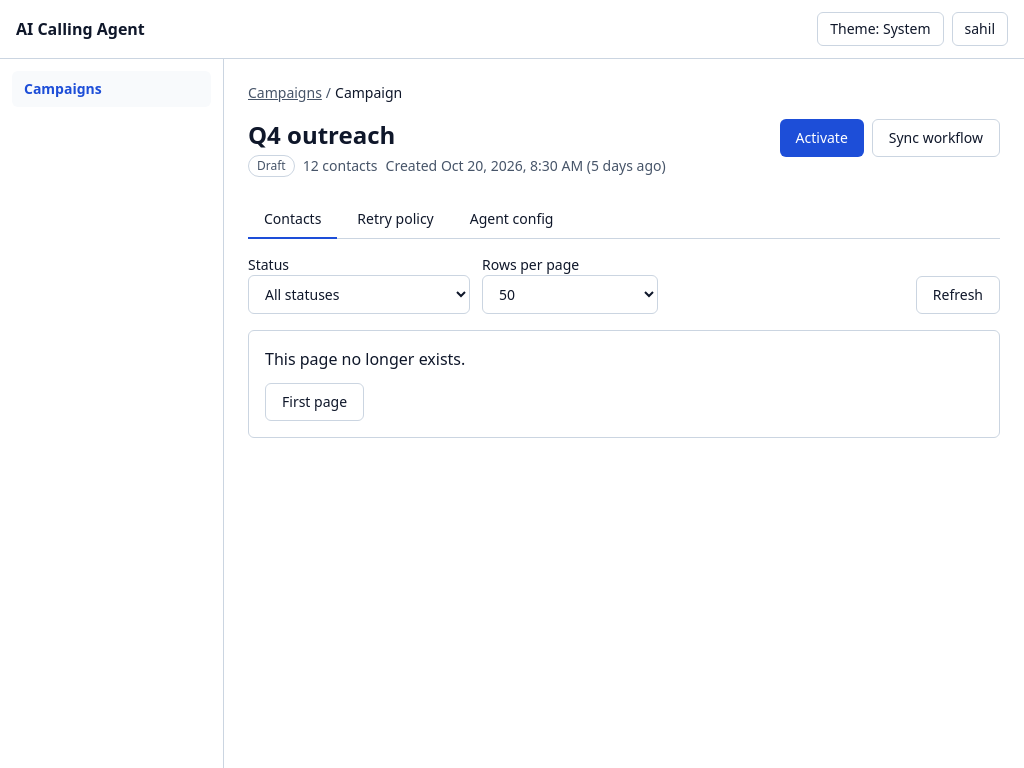
Scenario: a page that no longer exists offers a way back to page 1
Expected: the text "This page no longer exists." is shown, [265,348,465,370]
Click the button "First page" at (314, 402), box [265,383,364,421]
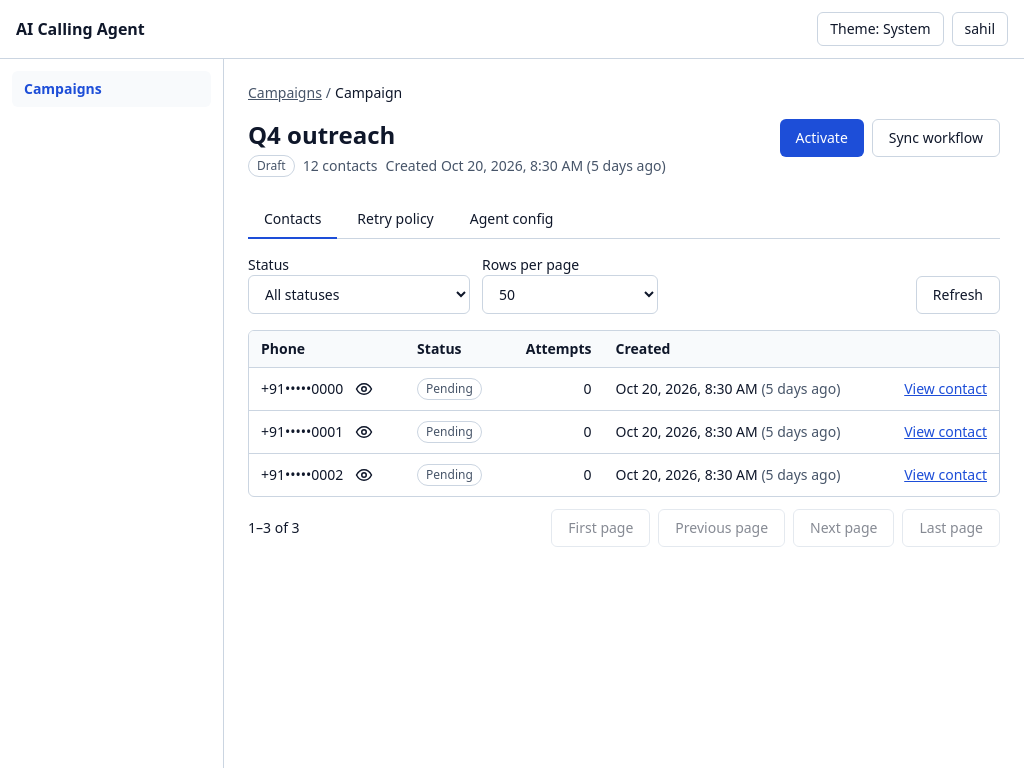
Result: the table is shown at [249,331,999,496]
